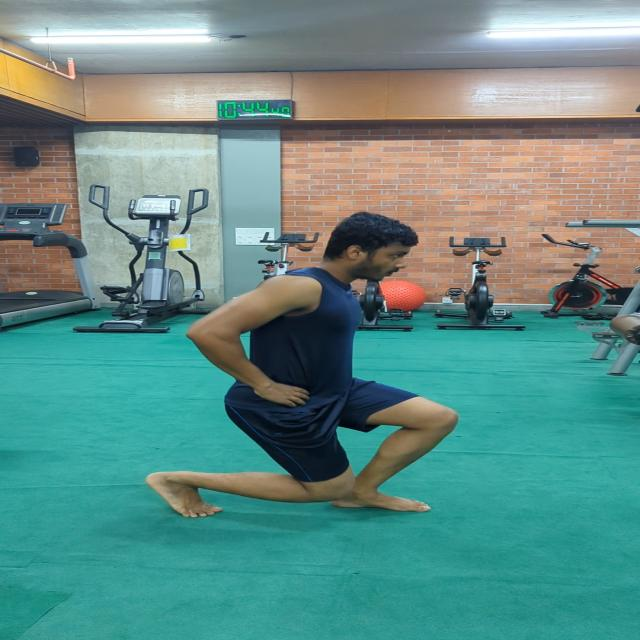Normal_Lunges: (124, 208, 462, 524)
